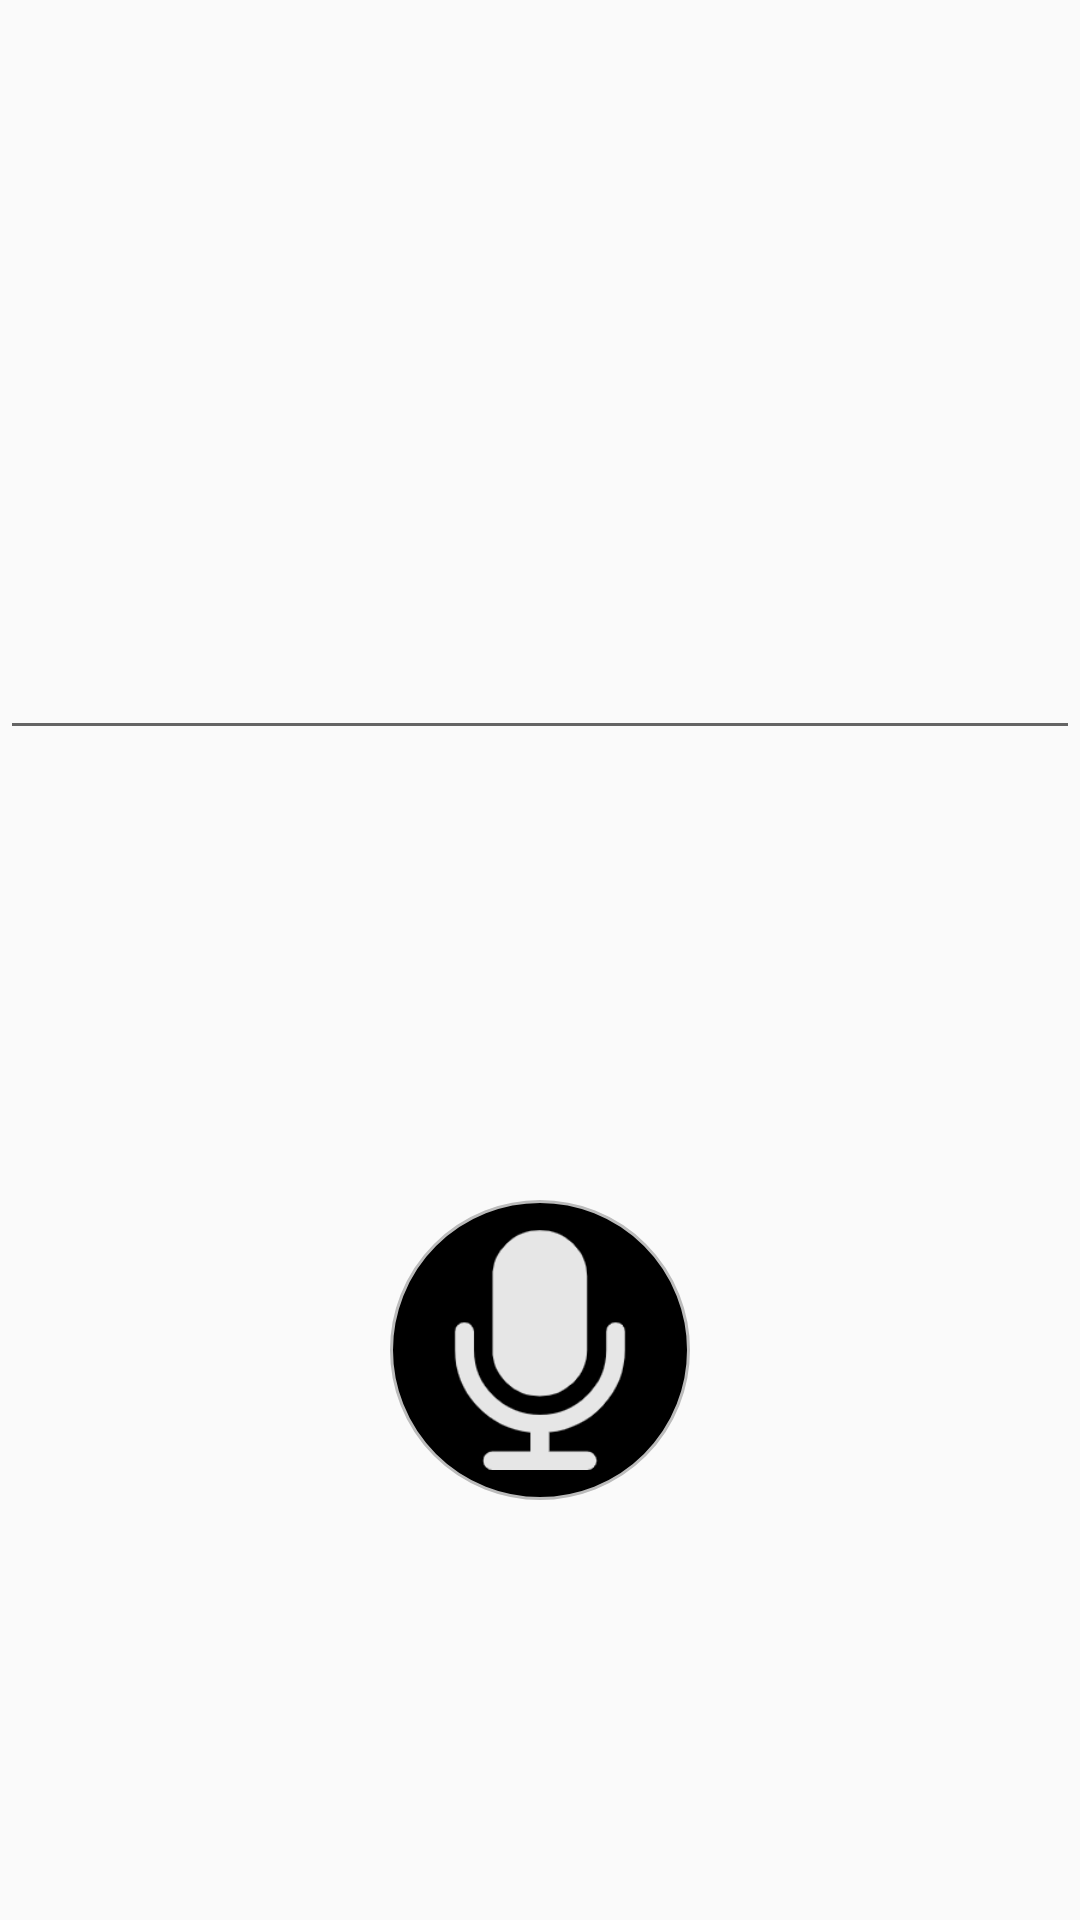

Icons on this 1080*1920 Android screen, each with the point to tap as point (x, y):
mic: point (540, 1350)
